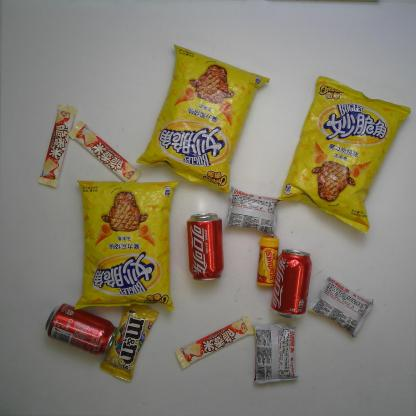Candy: (256, 234, 280, 288)
Chocolate: (172, 314, 258, 373), (98, 303, 161, 383), (68, 119, 140, 182), (36, 103, 78, 189)
Dessert: (308, 272, 378, 338), (223, 184, 278, 239), (254, 323, 296, 387)
Drink: (44, 304, 115, 356), (271, 248, 313, 320), (186, 212, 224, 282)
Puffed Food: (276, 75, 412, 235), (136, 41, 269, 194), (73, 179, 182, 314)
